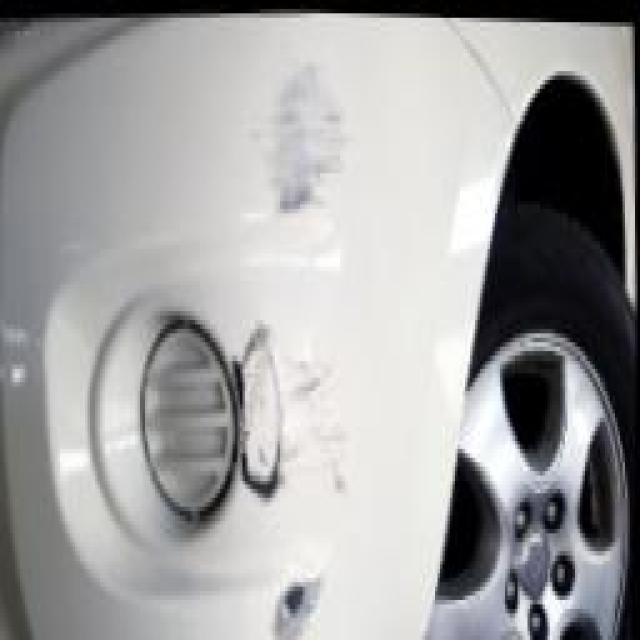Bumper: (10, 18, 434, 639)
